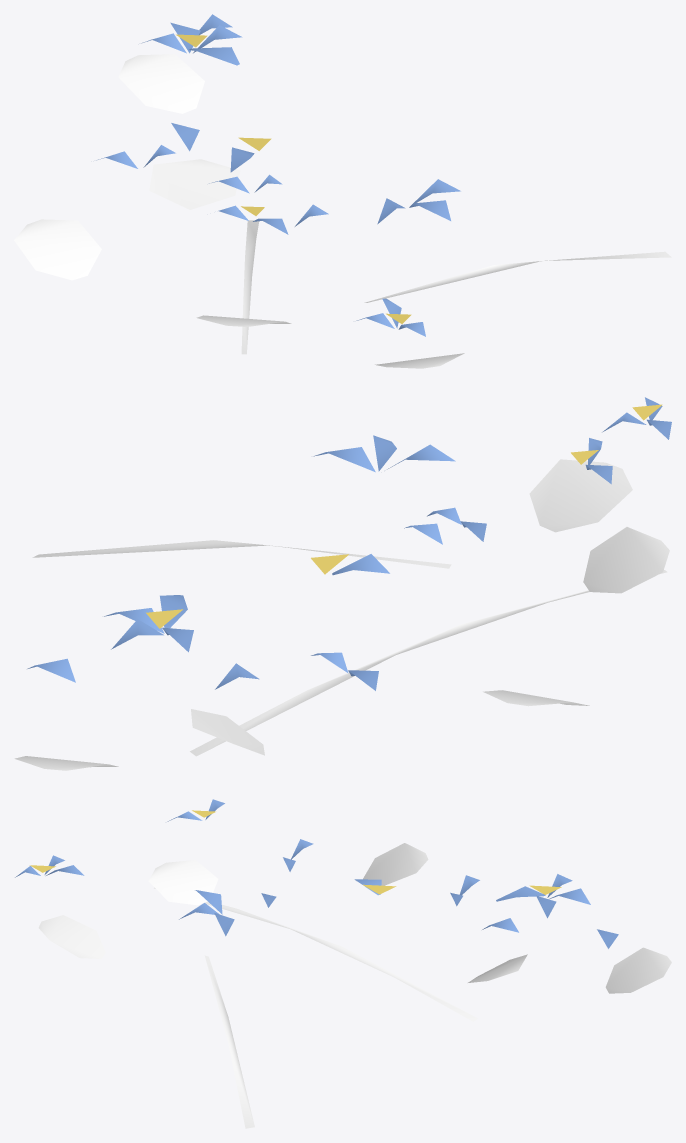
Rendered from TinyBlueFlowerClump_LOD1.glb.
3 views of the same model, one above another, from view 1: azimuth 30°, elevation 25°; view 2: azimuth 150°, elevation 25°; view 3: azimuth 270°, elevation 25° (orthographic). The views are drawn at different scales.
Parts seen in each view (by area): view 1: TinyBlueFlowerClump_LOD1; view 2: TinyBlueFlowerClump_LOD1; view 3: TinyBlueFlowerClump_LOD1.
Boxes of the visible parts, x1=… form: TinyBlueFlowerClump_LOD1: x1=14, y1=14, x2=671, y2=368; TinyBlueFlowerClump_LOD1: x1=14, y1=397, x2=671, y2=770; TinyBlueFlowerClump_LOD1: x1=15, y1=799, x2=671, y2=1128.
Size of the model in its own units: 0.6609 by 0.1999 by 0.8343.
